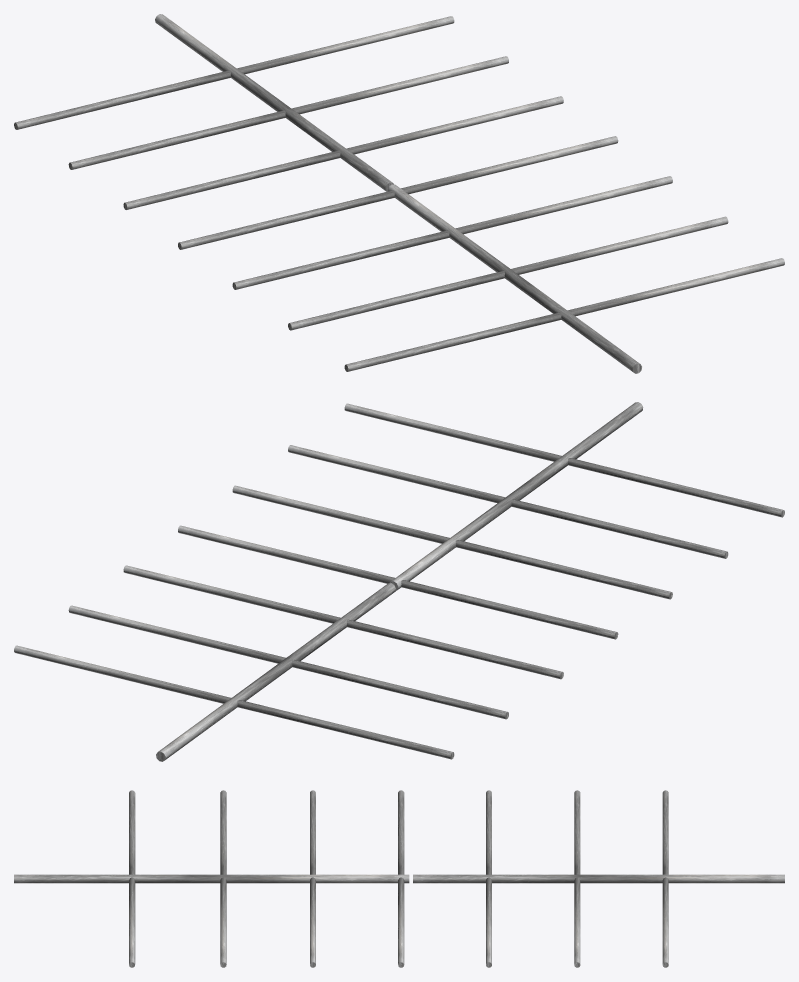
Rendered from RoofFrame.FBX.
3 views of the same model, one above another, from view 1: azimuth 30°, elevation 25°; view 2: azimuth 150°, elevation 25°; view 3: azimuth 270°, elevation 25° (orthographic). The views are drawn at different scales.
Visible parts, largest first — view 1: RoofFrame; view 2: RoofFrame; view 3: RoofFrame.
Part boxes in pixels (box(x1,y1,x2,y2)): RoofFrame: box(14, 14, 784, 373); RoofFrame: box(14, 402, 784, 761); RoofFrame: box(14, 790, 784, 967).
Bounding box in the file's own units: 29.08 × 0.6312 × 55.11.
